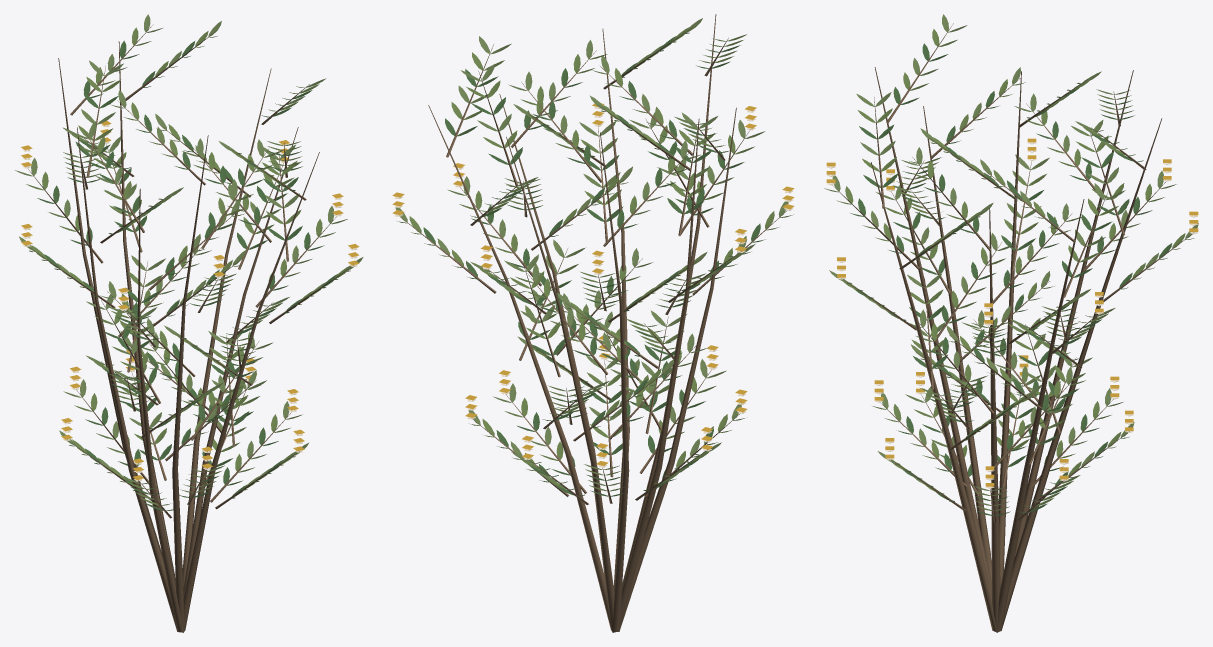
The model's file is BruyereFine_2_High.fbx.
3 views of the same model, side by side, from view 1: azimuth 30°, elevation 25°; view 2: azimuth 150°, elevation 25°; view 3: azimuth 270°, elevation 25° (orthographic). The views are drawn at different scales.
Visible parts, largest first — view 1: BruyereFine_2_High; view 2: BruyereFine_2_High; view 3: BruyereFine_2_High.
Boxes of the visible parts, x1,y1,x2,y2 form: BruyereFine_2_High: (15,14,363,632); BruyereFine_2_High: (392,14,794,632); BruyereFine_2_High: (824,14,1198,632).
Bounding box in the file's own units: 96.04 × 171 × 102.
